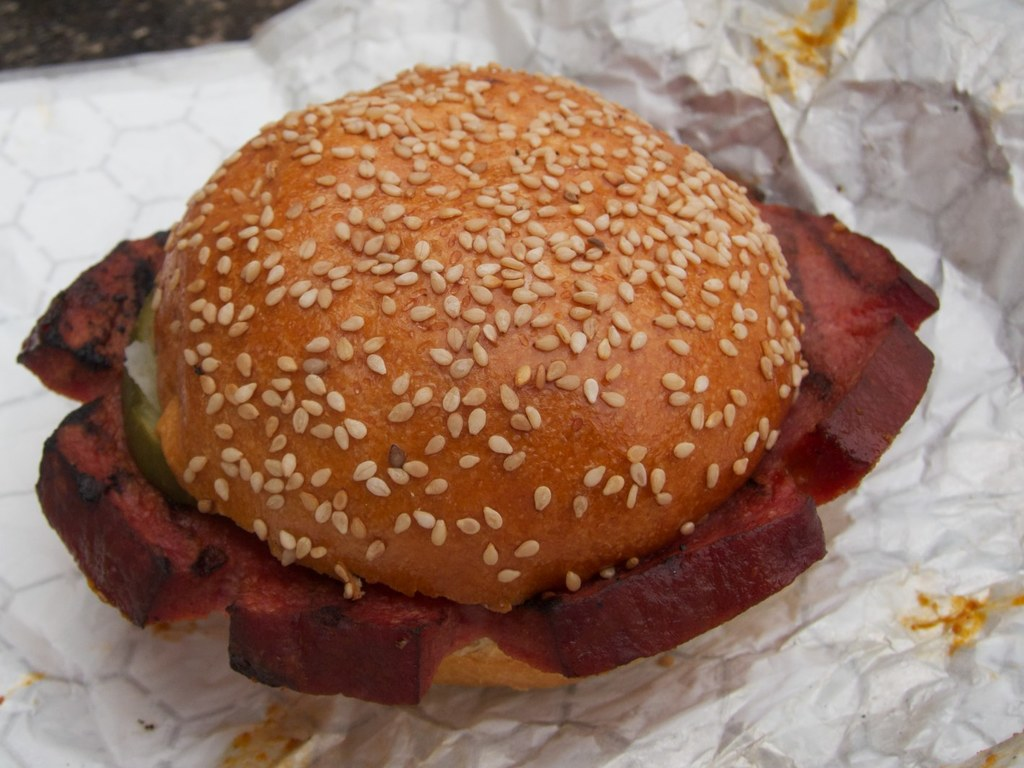Hamburger: (19, 58, 937, 725)
